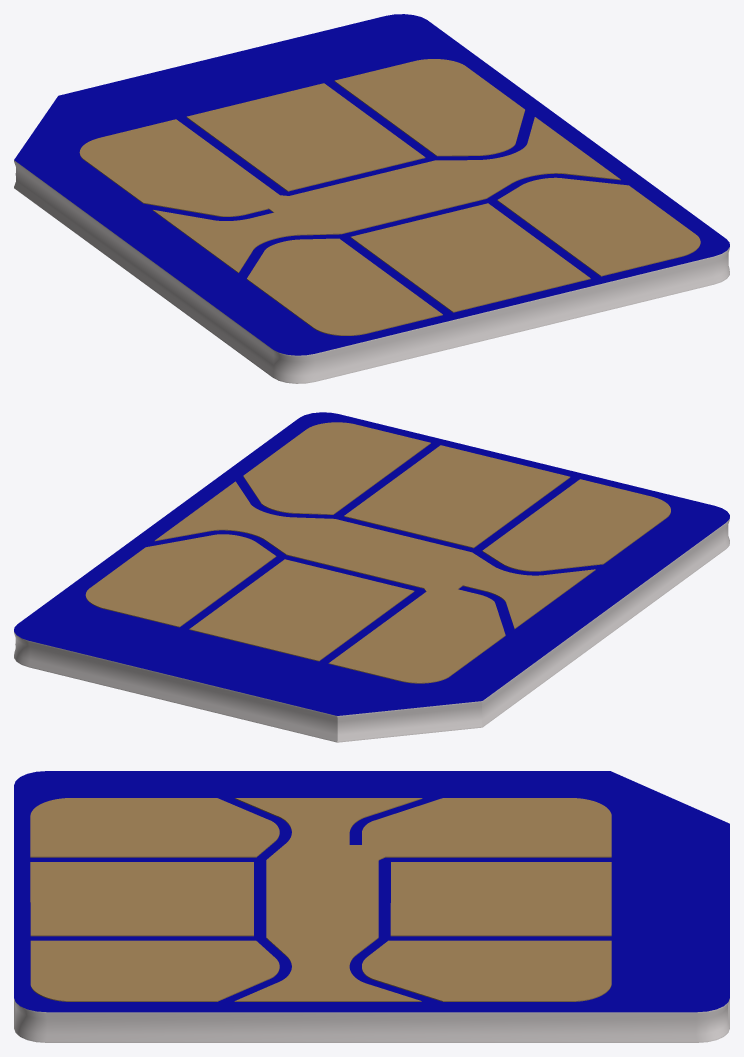
Rendered from nano_sim_-_cut.glb.
The picture shows the model from 3 angles, top to bottom: view 1: azimuth 30°, elevation 25°; view 2: azimuth 150°, elevation 25°; view 3: azimuth 270°, elevation 25°; orthographic projection. The views are drawn at different scales.
Parts seen in each view (by area): view 1: contacte-material, sim-material, rama-material; view 2: contacte-material, sim-material, rama-material; view 3: contacte-material, sim-material, rama-material.
Part boxes in pixels (<box>): contacte-material: <box>79,59,700,335</box>; sim-material: <box>14,14,729,355</box>; rama-material: <box>14,160,729,383</box>; contacte-material: <box>85,422,670,683</box>; sim-material: <box>14,412,729,715</box>; rama-material: <box>14,518,729,742</box>; contacte-material: <box>30,798,611,1001</box>; sim-material: <box>14,771,729,1012</box>; rama-material: <box>14,998,729,1042</box>.
Bounding box in the file's own units: 0.98 × 0.06 × 1.23.
3 materials, 1 textured.
